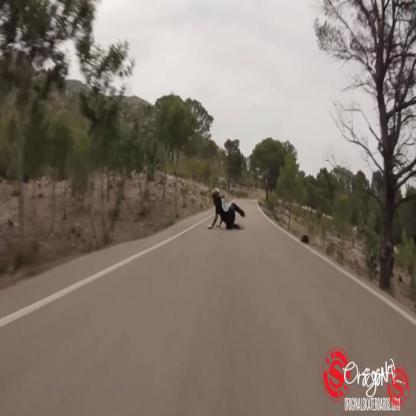Fall_Down: (206, 184, 247, 235)
